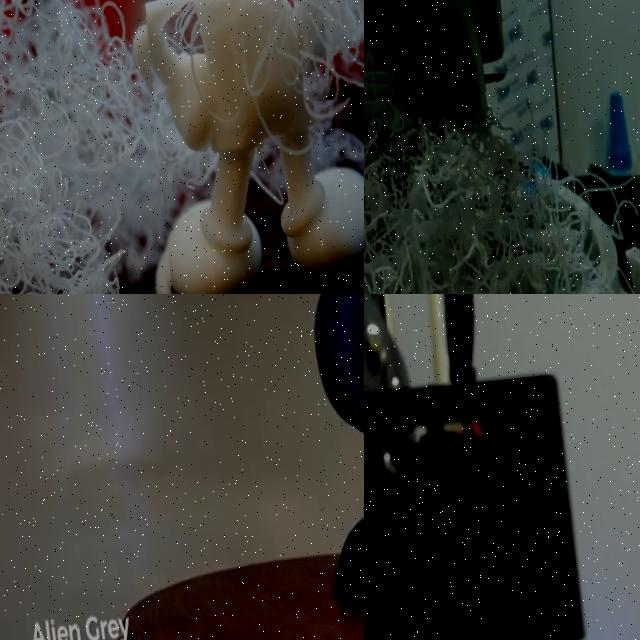spaghetti: (0, 0, 198, 294), (364, 49, 576, 294), (280, 0, 364, 102)
